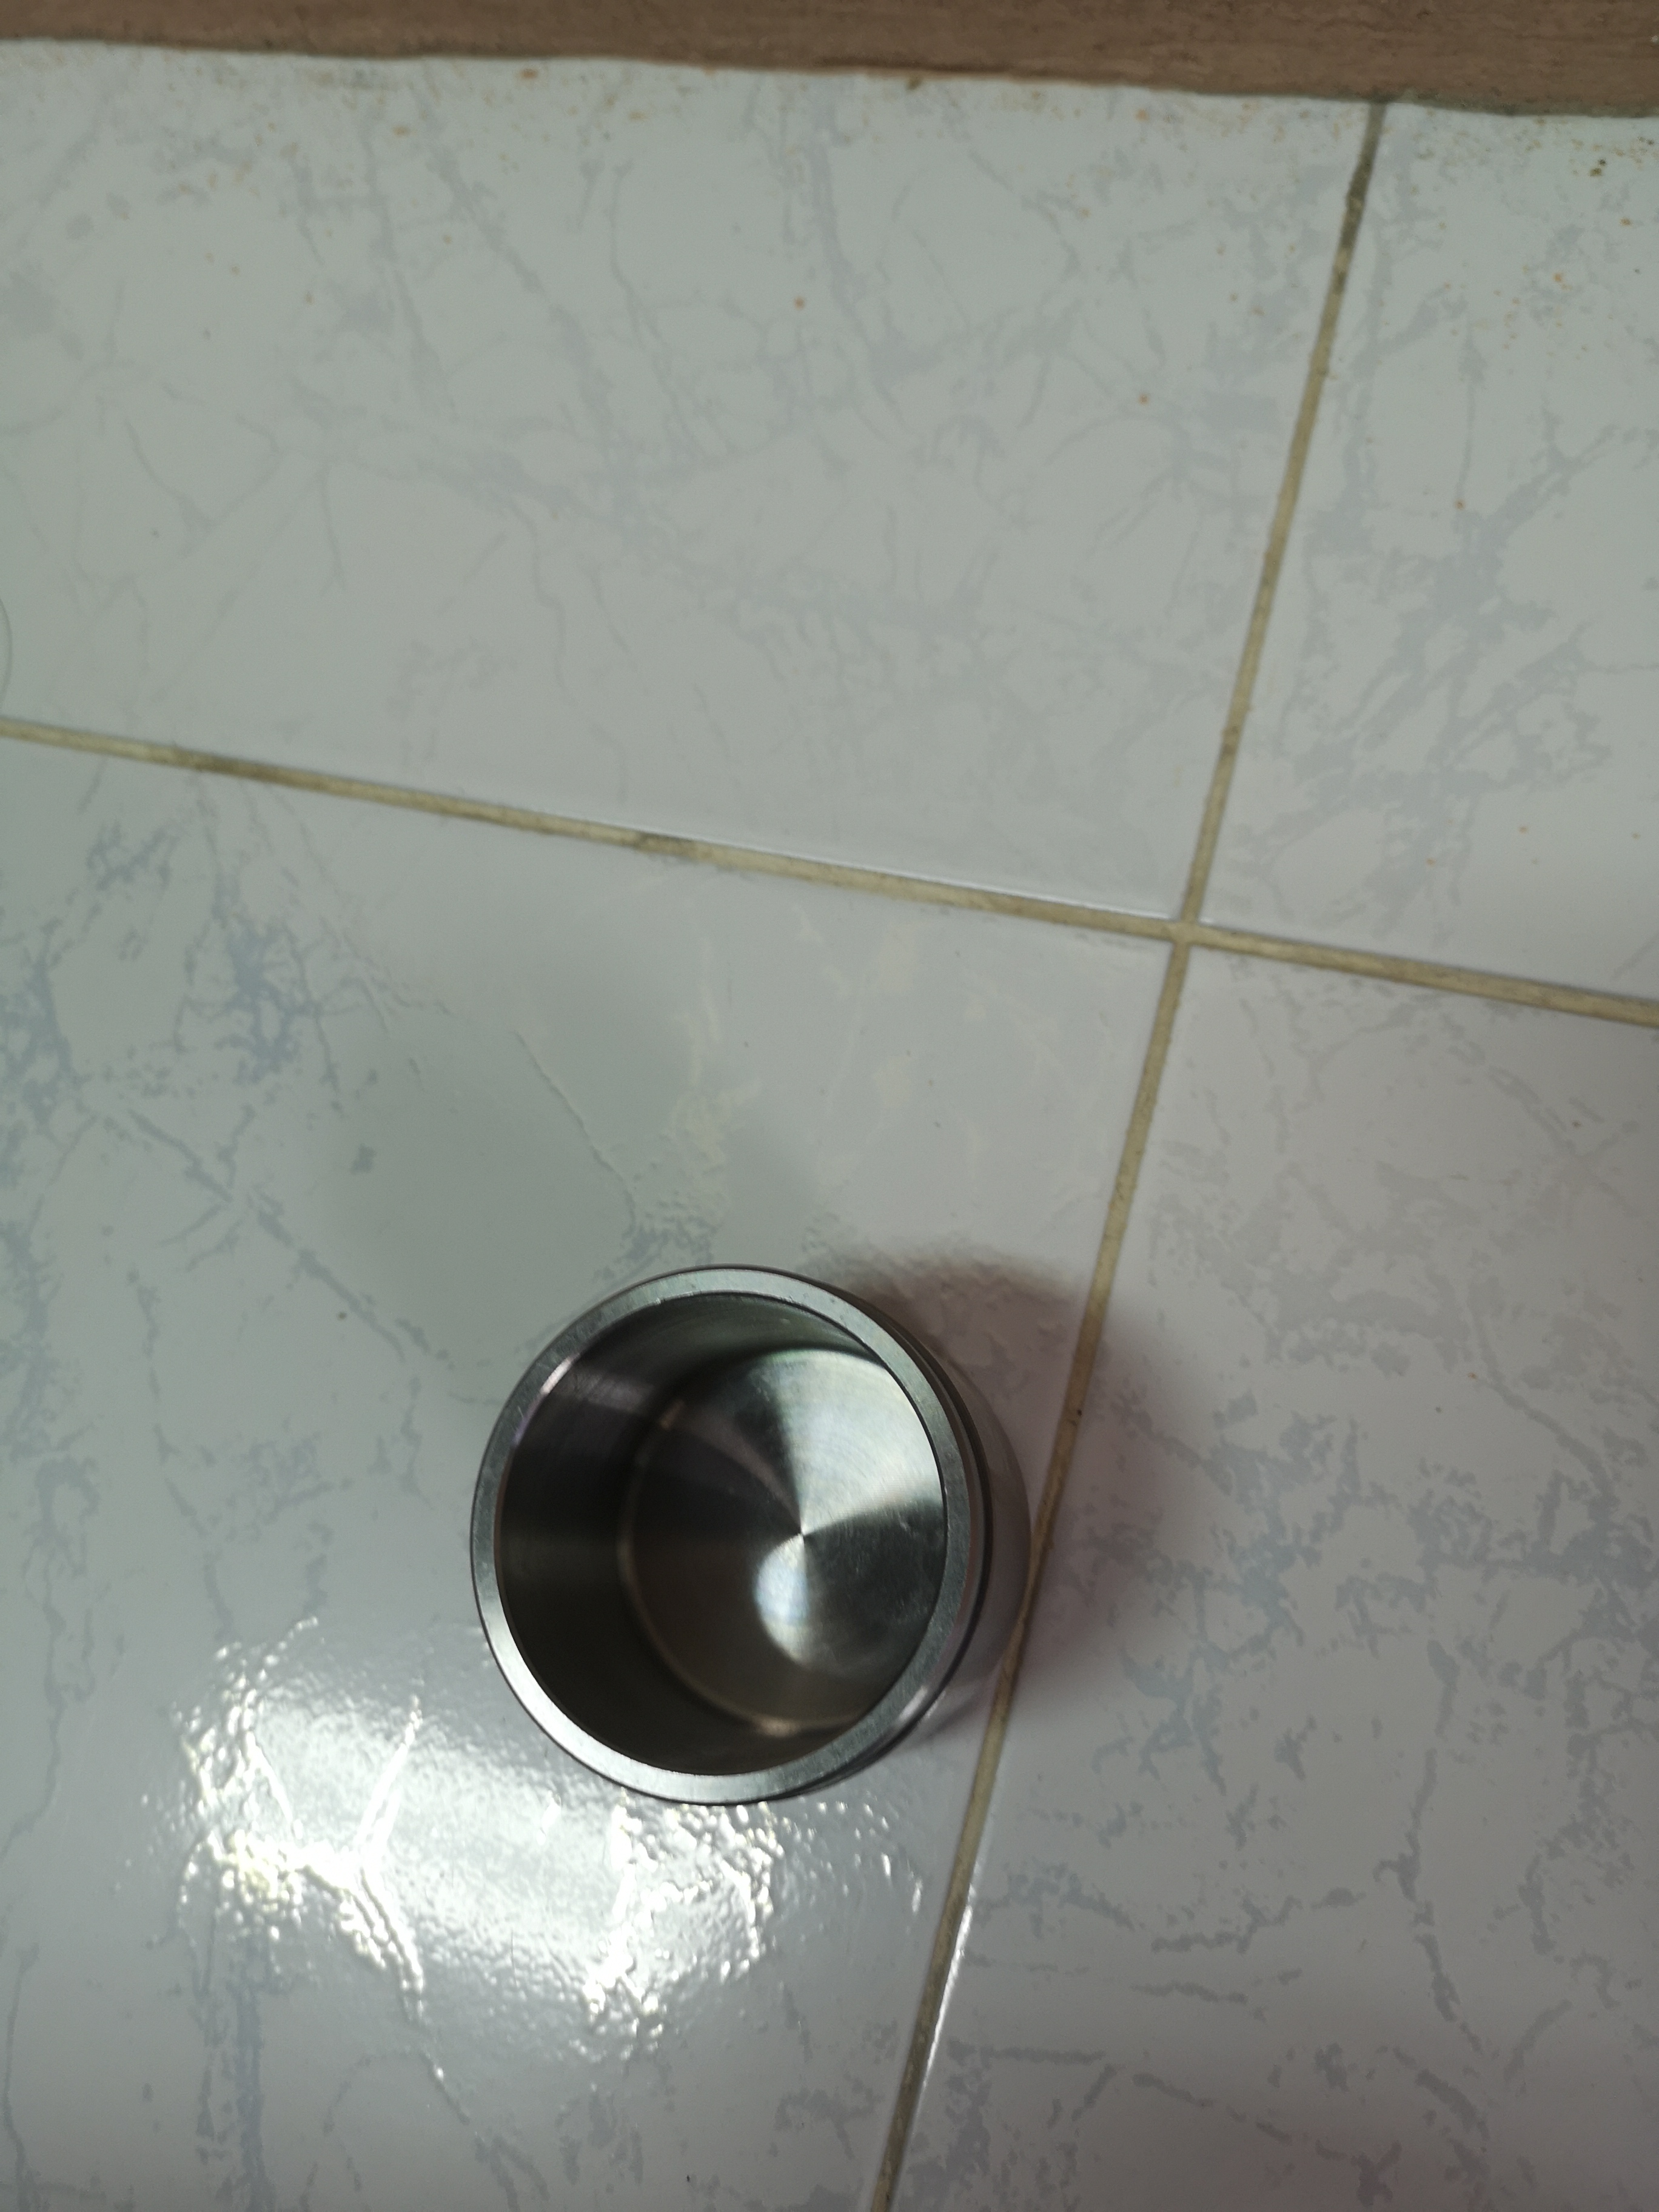ลูกสูบดิสเบรค: (343, 1228, 1162, 1853)
